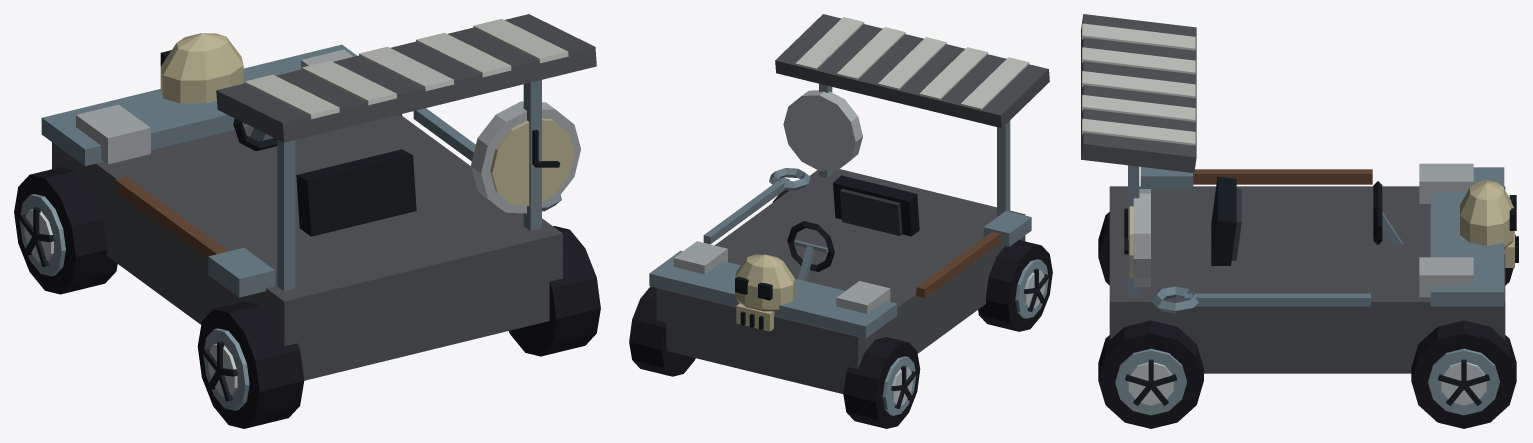
The model's file is kart.glb.
3 views of the same model, side by side, from view 1: azimuth 30°, elevation 25°; view 2: azimuth 150°, elevation 25°; view 3: azimuth 270°, elevation 25° (orthographic). The views are drawn at different scales.
Parts seen in each view (by area): view 1: identity-food-cart-food-cart-counter-and-awning, wheel-rear-left, wheel-front-left, identity-food-cart-driver-cockpit, identity-food-cart-motif-clock, identity-food-cart-motif-tools, wheel-rear-right, identity-food-cart-motif-skull; view 2: identity-food-cart-food-cart-counter-and-awning, wheel-front-left, identity-food-cart-driver-cockpit, wheel-rear-left, identity-food-cart-motif-clock, identity-food-cart-motif-tools, identity-food-cart-motif-skull, wheel-front-right; view 3: identity-food-cart-food-cart-counter-and-awning, wheel-front-right, wheel-rear-right, identity-food-cart-motif-tools, identity-food-cart-motif-skull, identity-food-cart-driver-cockpit, identity-food-cart-motif-clock, wheel-rear-left.
Boxes of the visible parts, x1=… form: identity-food-cart-food-cart-counter-and-awning: x1=41, y1=14, x2=596, y2=380; wheel-rear-left: x1=197, y1=301, x2=304, y2=428; wheel-front-left: x1=14, y1=167, x2=117, y2=294; identity-food-cart-driver-cockpit: x1=233, y1=118, x2=416, y2=236; identity-food-cart-motif-clock: x1=471, y1=101, x2=580, y2=213; identity-food-cart-motif-tools: x1=115, y1=108, x2=561, y2=297; wheel-rear-right: x1=509, y1=226, x2=600, y2=356; identity-food-cart-motif-skull: x1=160, y1=33, x2=243, y2=103; identity-food-cart-food-cart-counter-and-awning: x1=649, y1=14, x2=1049, y2=393; wheel-front-left: x1=843, y1=337, x2=920, y2=428; identity-food-cart-driver-cockpit: x1=787, y1=175, x2=919, y2=280; wheel-rear-left: x1=978, y1=240, x2=1052, y2=331; identity-food-cart-motif-clock: x1=783, y1=90, x2=862, y2=170; identity-food-cart-motif-tools: x1=703, y1=168, x2=1031, y2=297; identity-food-cart-motif-skull: x1=735, y1=254, x2=794, y2=331; wheel-front-right: x1=629, y1=286, x2=695, y2=376; identity-food-cart-food-cart-counter-and-awning: x1=1081, y1=14, x2=1505, y2=373; wheel-front-right: x1=1411, y1=320, x2=1516, y2=428; wheel-rear-right: x1=1098, y1=320, x2=1203, y2=428; identity-food-cart-motif-tools: x1=1140, y1=167, x2=1372, y2=313; identity-food-cart-motif-skull: x1=1460, y1=180, x2=1518, y2=267; identity-food-cart-driver-cockpit: x1=1211, y1=176, x2=1402, y2=265; identity-food-cart-motif-clock: x1=1124, y1=189, x2=1150, y2=286; wheel-rear-left: x1=1098, y1=212, x2=1109, y2=284.
Size of the model in its own units: 2.03 by 1.76 by 2.49.
